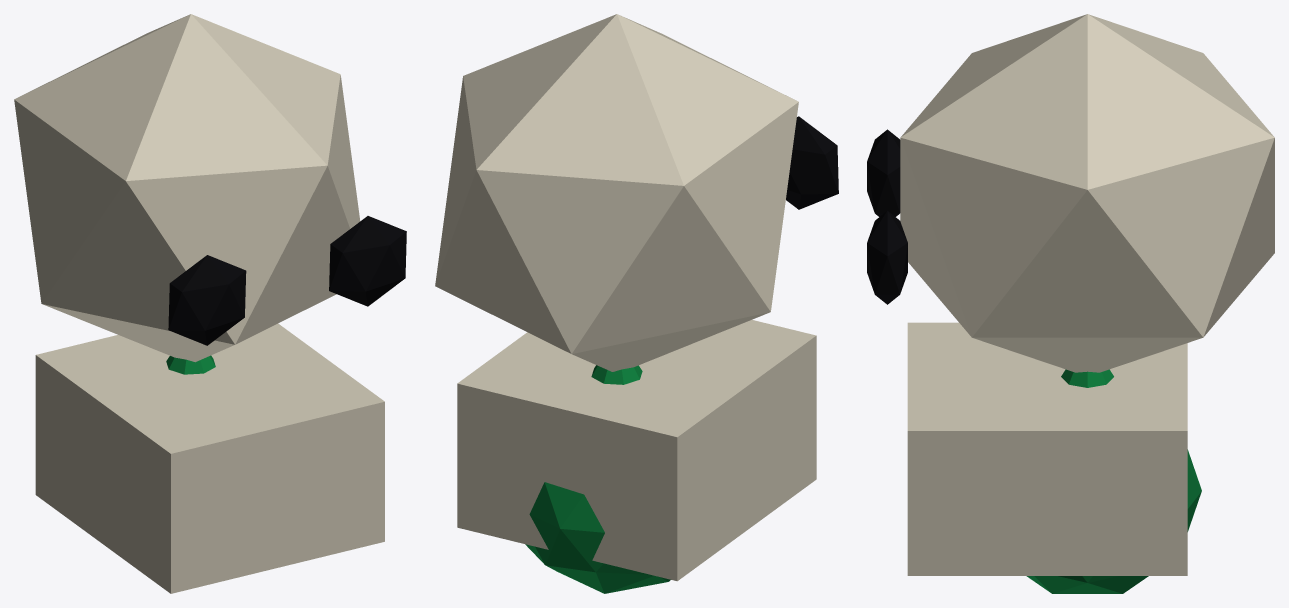
Rendered from Prop_OR_Sigil_02.glb.
3 renders of one model, left to right at view 1: azimuth 30°, elevation 25°; view 2: azimuth 150°, elevation 25°; view 3: azimuth 270°, elevation 25°, orthographic. The views are drawn at different scales.
Visible parts, largest first — view 1: Prop_OR_Sigil_02; view 2: Prop_OR_Sigil_02; view 3: Prop_OR_Sigil_02.
Part boxes in pixels (x1,y1,x2,y2): Prop_OR_Sigil_02: (14,14,406,593); Prop_OR_Sigil_02: (435,14,838,593); Prop_OR_Sigil_02: (867,14,1274,593).
Bounding box in the file's own units: 0.6261 × 1.11 × 0.7132.
